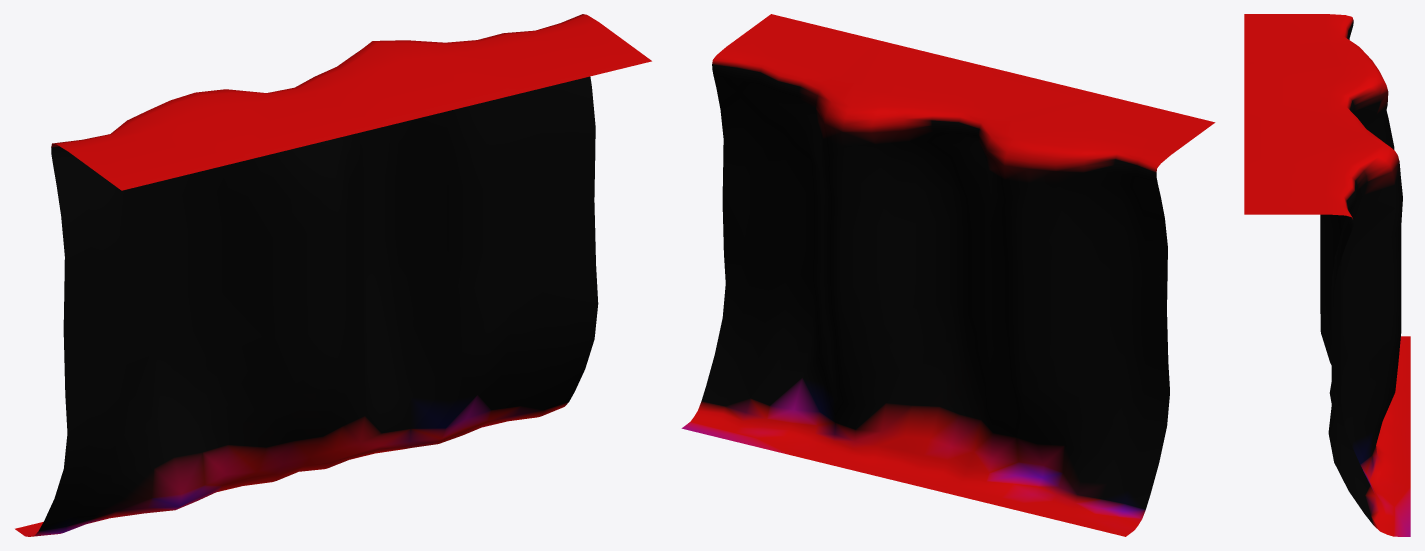
The model's file is GroundCliff02A 3M Background.fbx.
The picture shows the model from 3 angles, left to right: view 1: azimuth 30°, elevation 25°; view 2: azimuth 150°, elevation 25°; view 3: azimuth 270°, elevation 25°; orthographic projection. The views are drawn at different scales.
Visible parts, largest first — view 1: GroundCliff02A 3M Background; view 2: GroundCliff02A 3M Background; view 3: GroundCliff02A 3M Background.
Boxes of the visible parts, x1,y1,x2,y2 form: GroundCliff02A 3M Background: (15, 14, 651, 536); GroundCliff02A 3M Background: (681, 14, 1215, 536); GroundCliff02A 3M Background: (1244, 14, 1410, 536).
Size of the model in its own units: 4 by 3 by 1.4.
